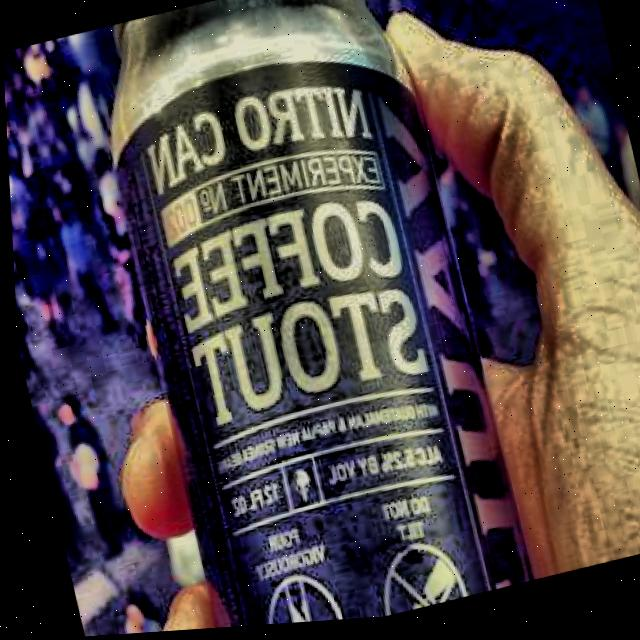metal: (71, 0, 527, 636)
